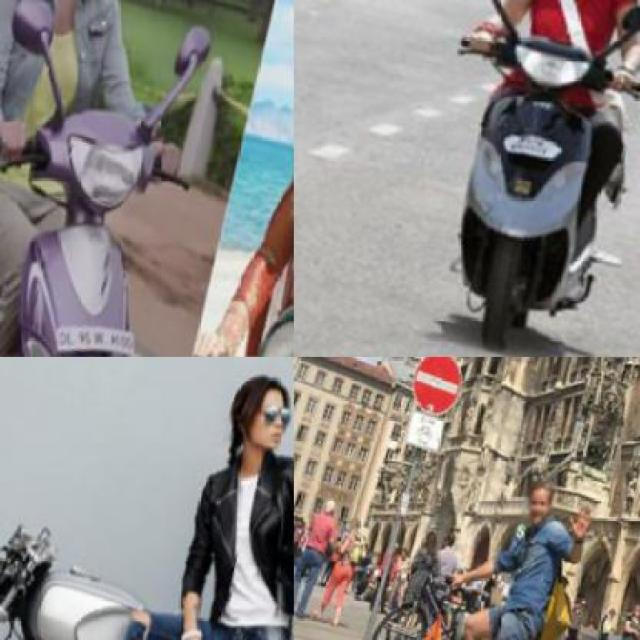Without Helmet: (215, 362, 292, 458), (512, 473, 559, 530)
